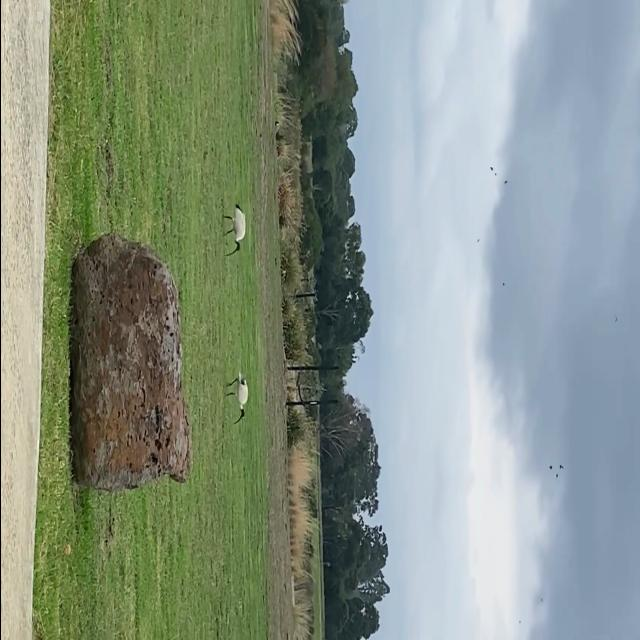Birds-Ibis: (217, 200, 248, 262), (221, 366, 251, 428)
